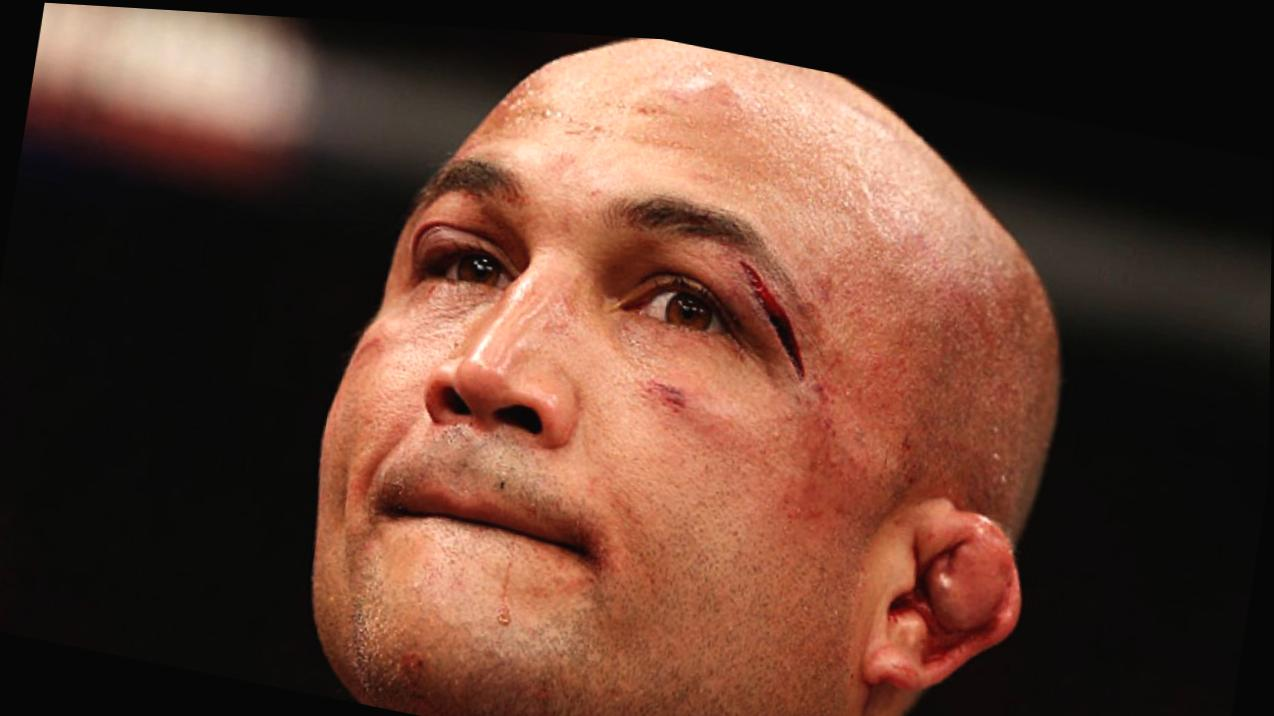Fire: (864, 572, 1024, 680), (742, 251, 806, 367)
